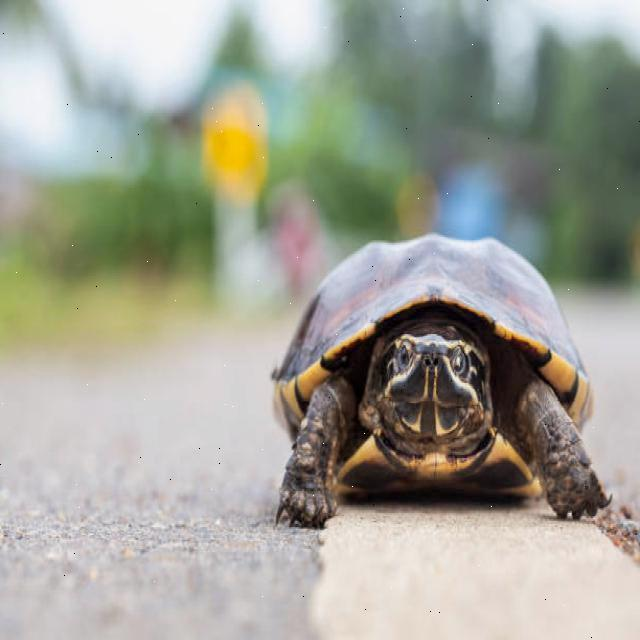tortoise: (239, 199, 615, 546)
